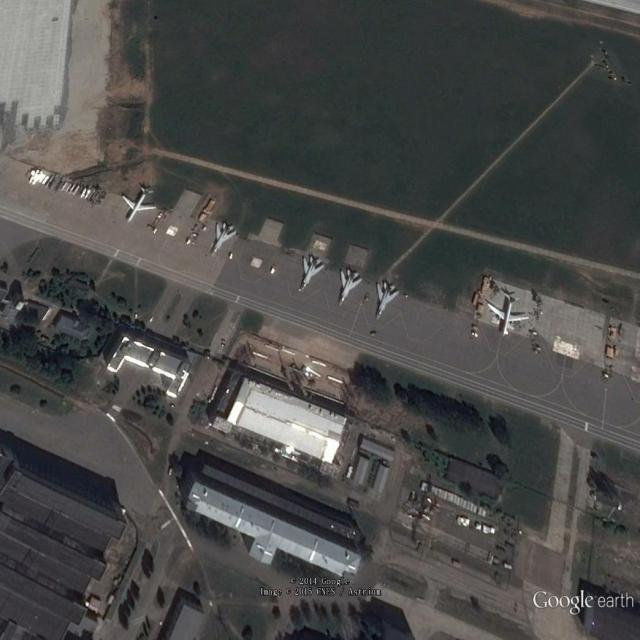aircraft: (484, 288, 534, 339), (119, 181, 159, 229), (336, 263, 368, 311), (297, 251, 330, 296), (210, 217, 241, 261), (374, 278, 403, 324)
